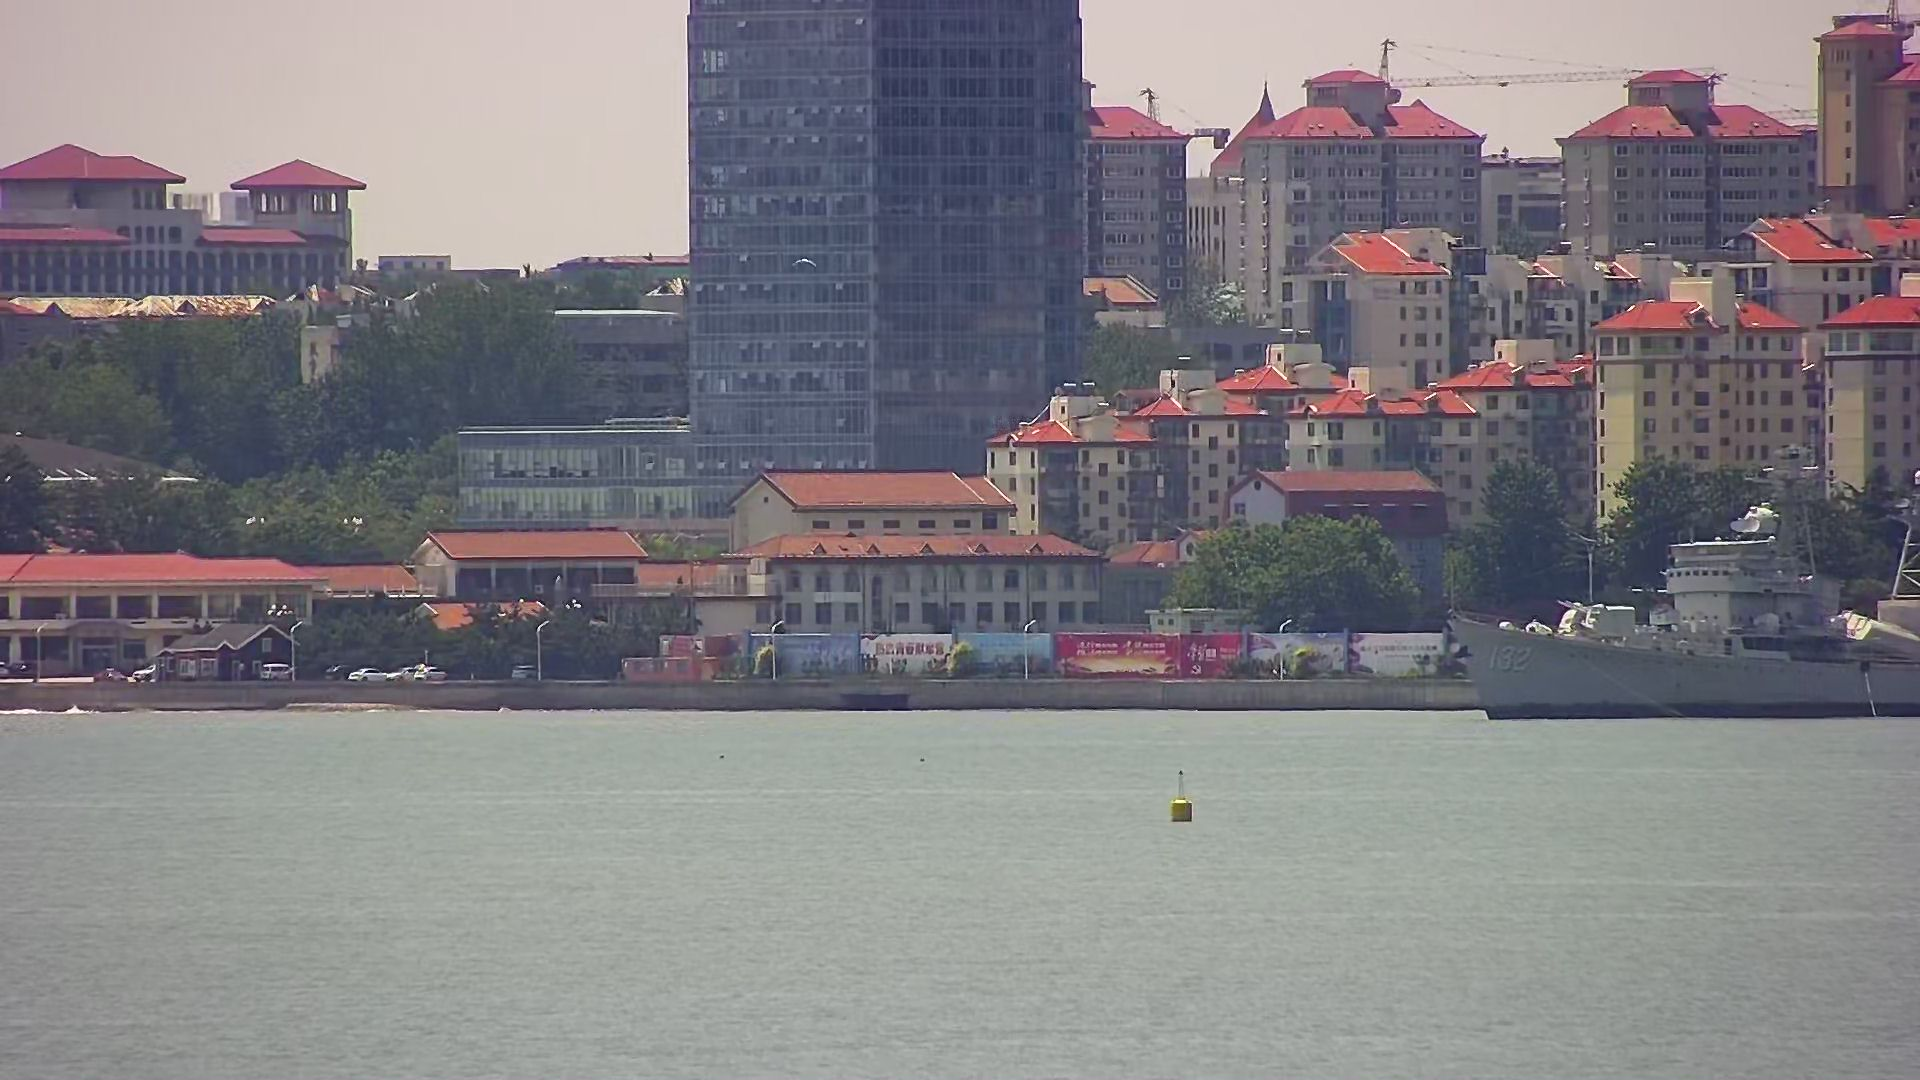buoy: (1166, 767, 1196, 825)
ship: (1455, 501, 1920, 723)
